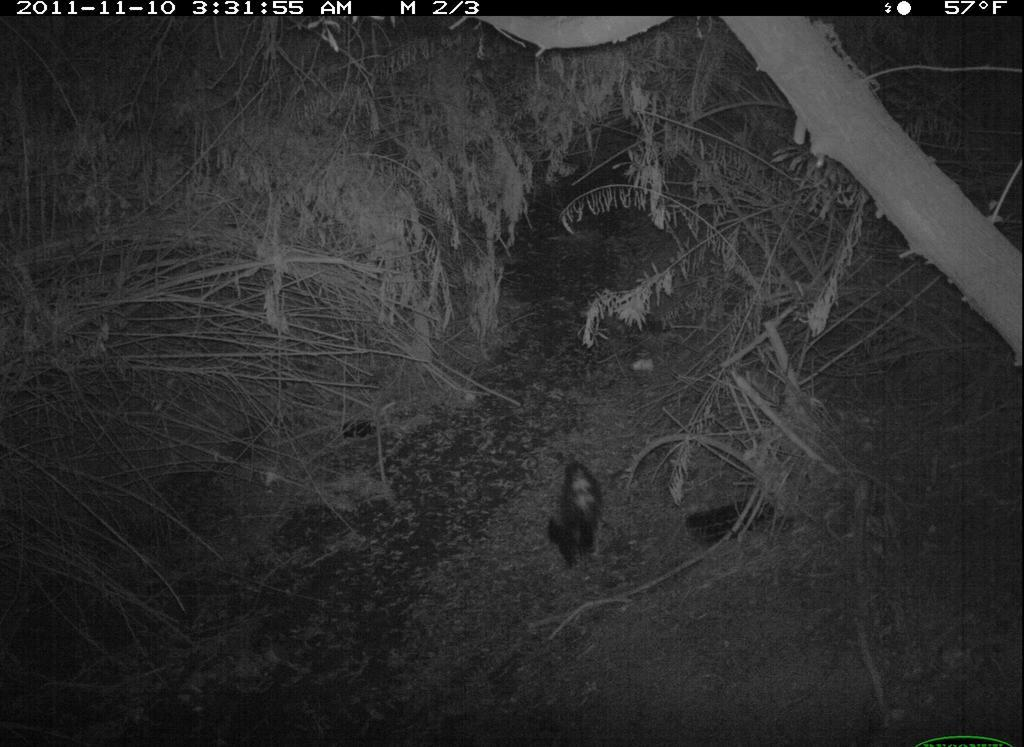skunk: (539, 440, 614, 579)
